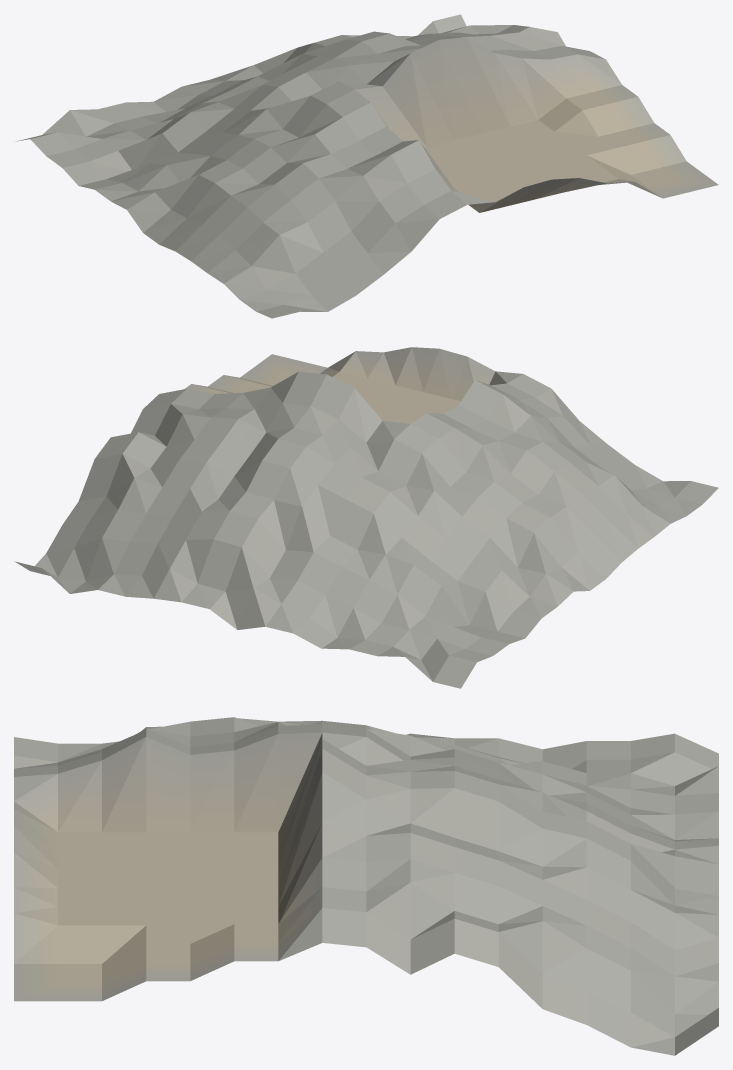
3 views of the same model, one above another, from view 1: azimuth 30°, elevation 25°; view 2: azimuth 150°, elevation 25°; view 3: azimuth 270°, elevation 25° (orthographic). The views are drawn at different scales.
Bounding box in the file's own units: 32 × 9.79 × 32.
